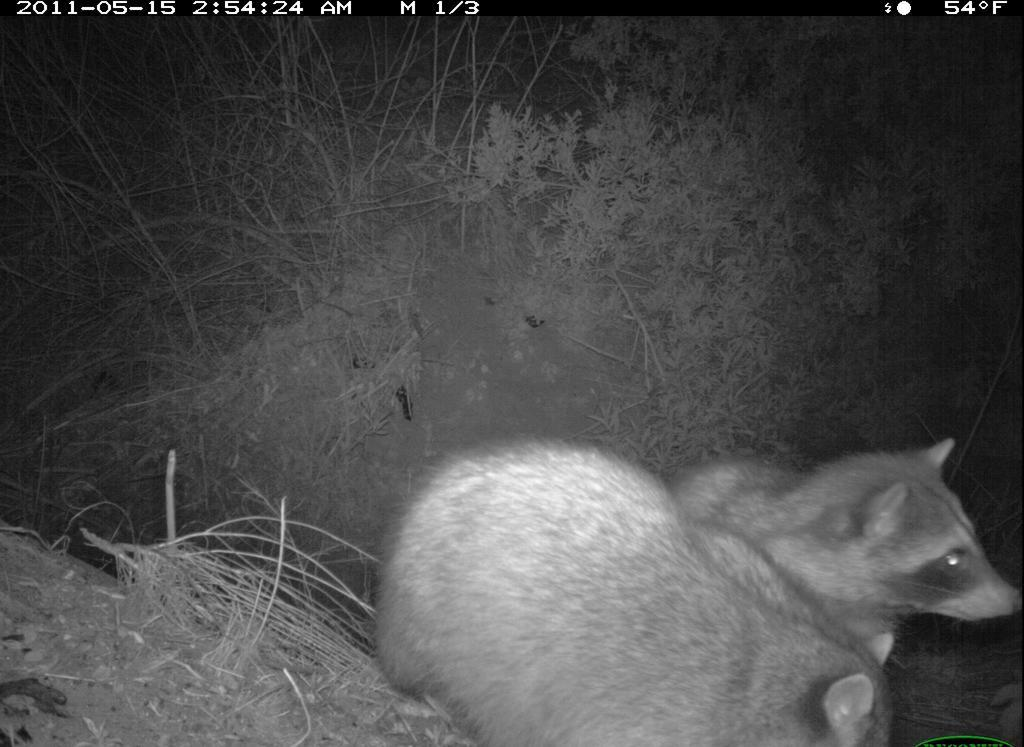raccoon: (365, 415, 1017, 737)
